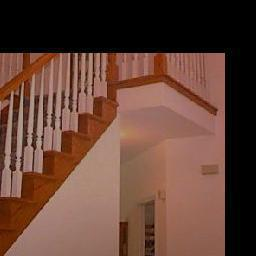Escaleras: (0, 56, 111, 256)
